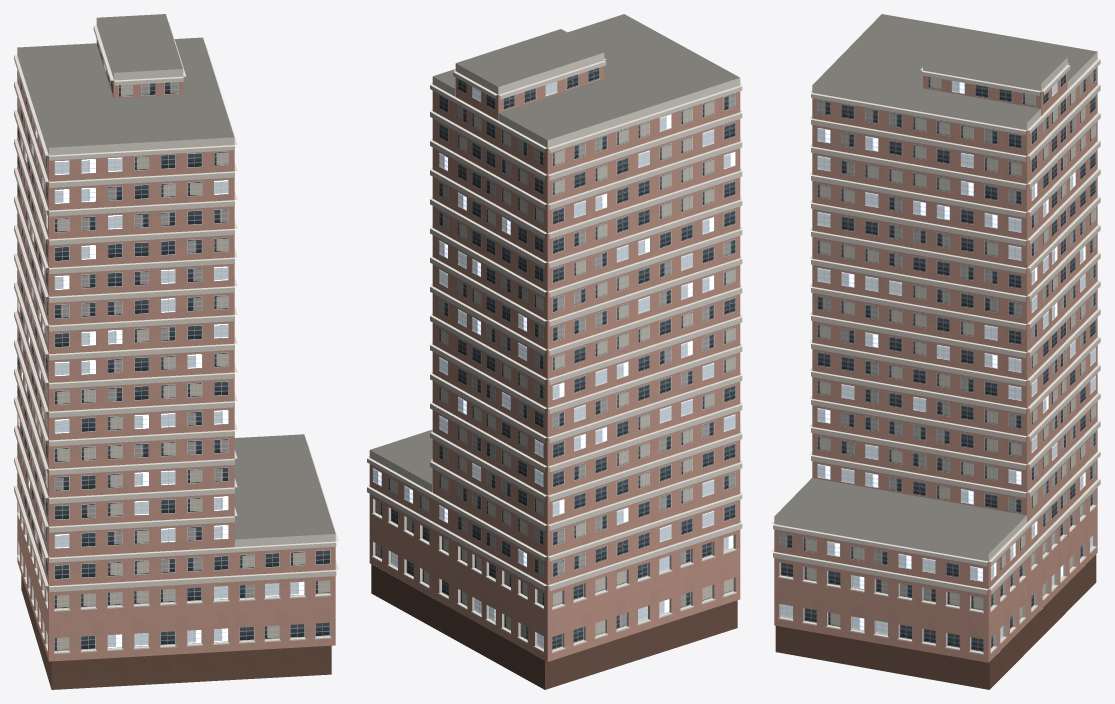
Rendered from z5R2_tower_red_a.glb.
3 renders of one model, left to right at view 1: azimuth 30°, elevation 25°; view 2: azimuth 150°, elevation 25°; view 3: azimuth 270°, elevation 25°, orthographic. The views are drawn at different scales.
Visible parts, largest first — view 1: z5R2_tower_red_a; view 2: z5R2_tower_red_a; view 3: z5R2_tower_red_a.
Boxes of the visible parts, bbox=[...] form: z5R2_tower_red_a: bbox=[14, 14, 338, 689]; z5R2_tower_red_a: bbox=[367, 14, 742, 689]; z5R2_tower_red_a: bbox=[771, 14, 1100, 689].
Bounding box in the file's own units: 34.26 × 58.99 × 31.76.
Materials: 3 (3 with a texture image).
